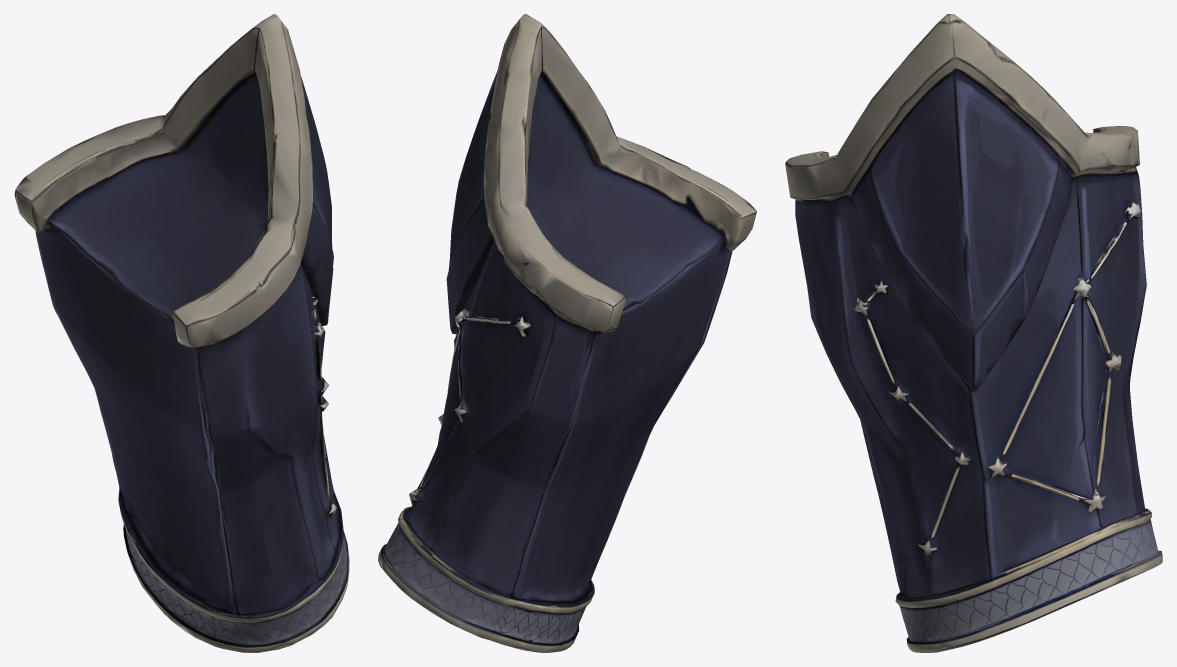
File: boss_forearm.glb
3 renders of one model, left to right at view 1: azimuth 30°, elevation 25°; view 2: azimuth 150°, elevation 25°; view 3: azimuth 270°, elevation 25°, orthographic. The views are drawn at different scales.
Parts seen in each view (by area): view 1: tripo_node_29b0be47-83de-4e98-9baf-f71bdbb2cd65; view 2: tripo_node_29b0be47-83de-4e98-9baf-f71bdbb2cd65; view 3: tripo_node_29b0be47-83de-4e98-9baf-f71bdbb2cd65.
Part boxes in pixels (<box>): tripo_node_29b0be47-83de-4e98-9baf-f71bdbb2cd65: <box>14,14,349,652</box>; tripo_node_29b0be47-83de-4e98-9baf-f71bdbb2cd65: <box>378,14,756,652</box>; tripo_node_29b0be47-83de-4e98-9baf-f71bdbb2cd65: <box>785,14,1162,652</box>.
Size of the model in its own units: 0.4537 by 1 by 0.5353.
1 material, 1 textured.
